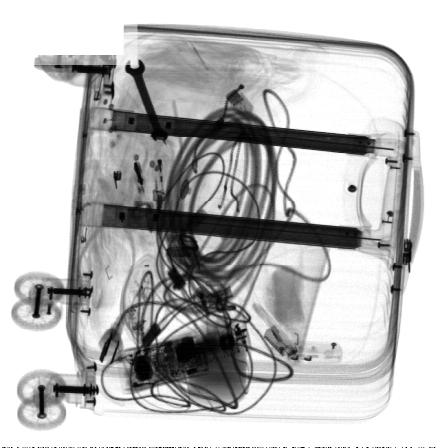Wrench: (125, 58, 169, 143)
